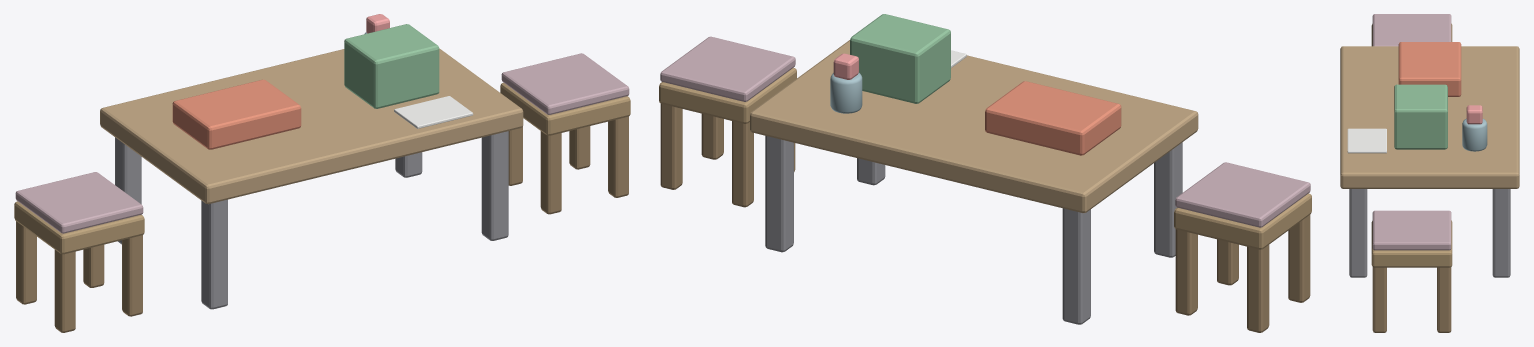
The model's file is стол.glb.
The picture shows the model from 3 angles, left to right: view 1: azimuth 30°, elevation 25°; view 2: azimuth 150°, elevation 25°; view 3: azimuth 270°, elevation 25°; orthographic projection. The views are drawn at different scales.
Parts seen in each view (by area): view 1: стол; view 2: стол; view 3: стол.
Part boxes in pixels (x1=…): стол: x1=14, y1=14, x2=630, y2=332; стол: x1=659, y1=14, x2=1311, y2=332; стол: x1=1340, y1=14, x2=1519, y2=332.
Bounding box in the file's own units: 3.05 × 0.94 × 1.
